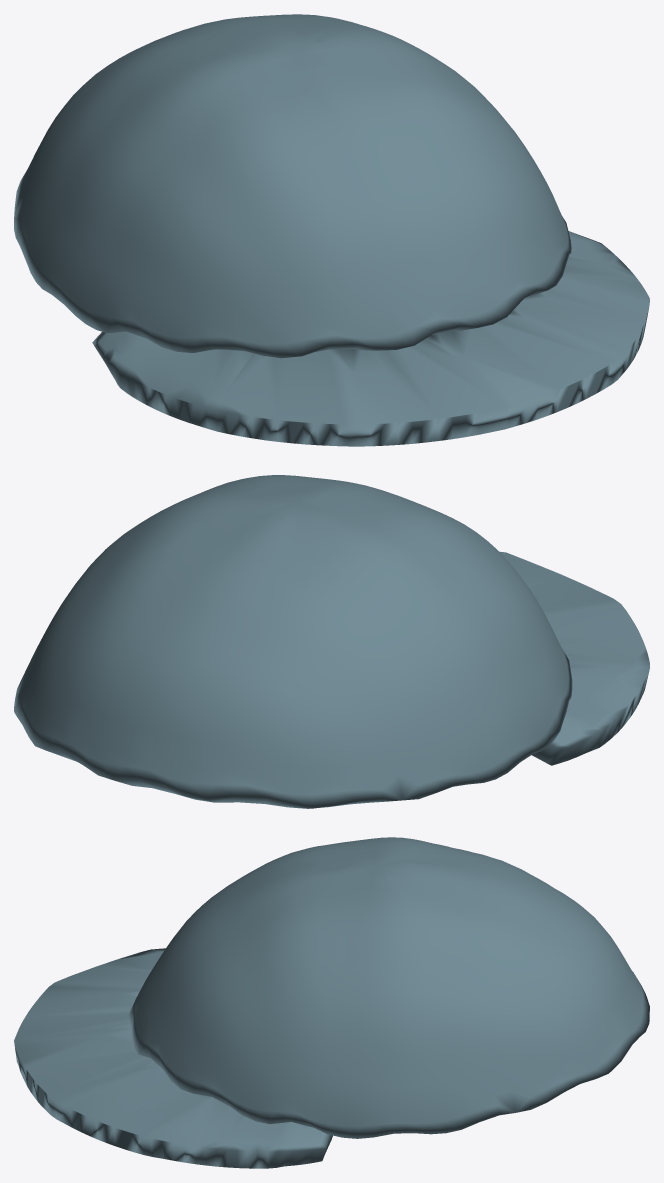
The model's file is 4HT-masculino.glb.
The picture shows the model from 3 angles, top to bottom: view 1: azimuth 30°, elevation 25°; view 2: azimuth 150°, elevation 25°; view 3: azimuth 270°, elevation 25°; orthographic projection. The views are drawn at different scales.
Visible parts, largest first — view 1: crown, shaped-brim; view 2: crown, shaped-brim; view 3: crown, shaped-brim.
Boxes of the visible parts, box(x1,y1,x2,y2) form: crown: box(14, 14, 571, 358); shaped-brim: box(92, 231, 649, 446); crown: box(14, 475, 572, 808); shaped-brim: box(499, 551, 649, 765); crown: box(128, 837, 649, 1138); shaped-brim: box(14, 948, 332, 1168).
Bounding box in the file's own units: 0.0306 × 0.0138 × 0.0393.
